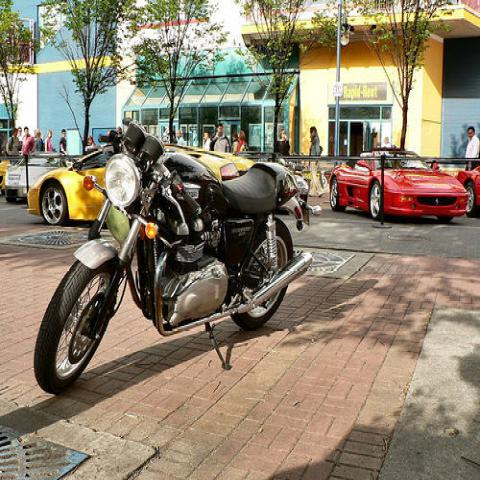car: (27, 145, 256, 224), (328, 148, 470, 222), (5, 156, 68, 202), (455, 163, 479, 220)
motorcycle: (32, 117, 324, 393)
